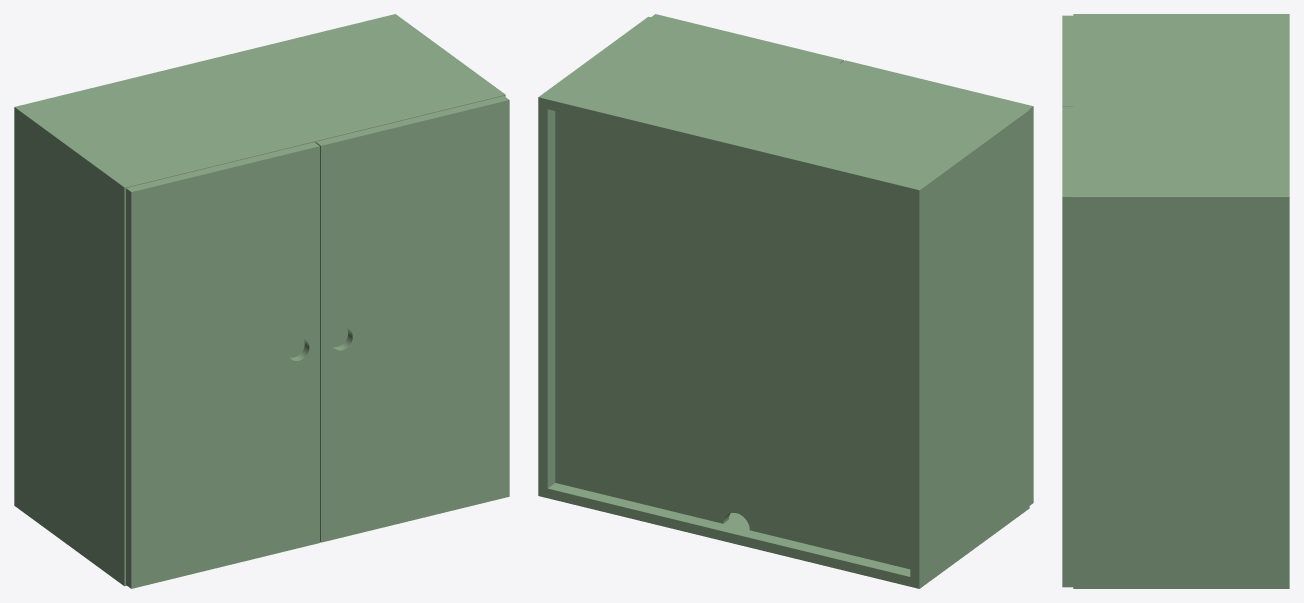
File: MOD-2X2-DD-B.AP-SA.glb
The picture shows the model from 3 angles, left to right: view 1: azimuth 30°, elevation 25°; view 2: azimuth 150°, elevation 25°; view 3: azimuth 270°, elevation 25°; orthographic projection.
Size of the model in its own units: 720 by 720 by 378.
